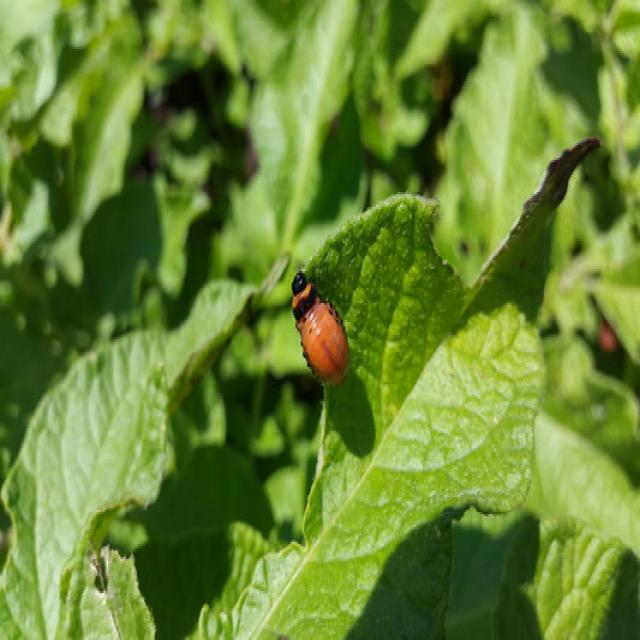ShuCaiHuaBanChong-Larva-: (276, 259, 368, 417)
